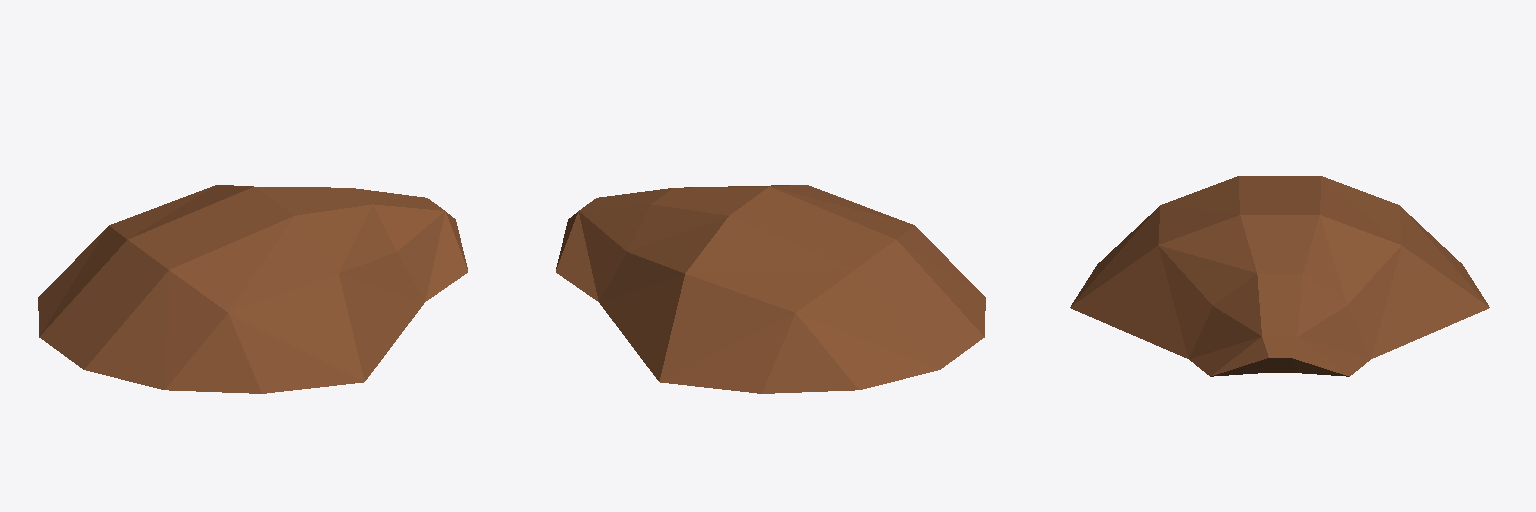
The model's file is Shell_Layered.obj.
3 views of the same model, side by side, from view 1: azimuth 30°, elevation 25°; view 2: azimuth 150°, elevation 25°; view 3: azimuth 270°, elevation 25° (orthographic).
Parts seen in each view (by area): view 1: Shell_Layered_Top.001_Cube.239; view 2: Shell_Layered_Top.001_Cube.239; view 3: Shell_Layered_Top.001_Cube.239, Shell_Layered_Bottom.001_Cube.236.
Boxes of the visible parts, x1=… form: Shell_Layered_Top.001_Cube.239: x1=38, y1=185, x2=467, y2=393; Shell_Layered_Top.001_Cube.239: x1=556, y1=185, x2=985, y2=393; Shell_Layered_Top.001_Cube.239: x1=1070, y1=176, x2=1489, y2=376; Shell_Layered_Bottom.001_Cube.236: x1=1211, y1=358, x2=1348, y2=376.
Bounding box in the file's own units: 0.1366 × 0.0338 × 0.128.